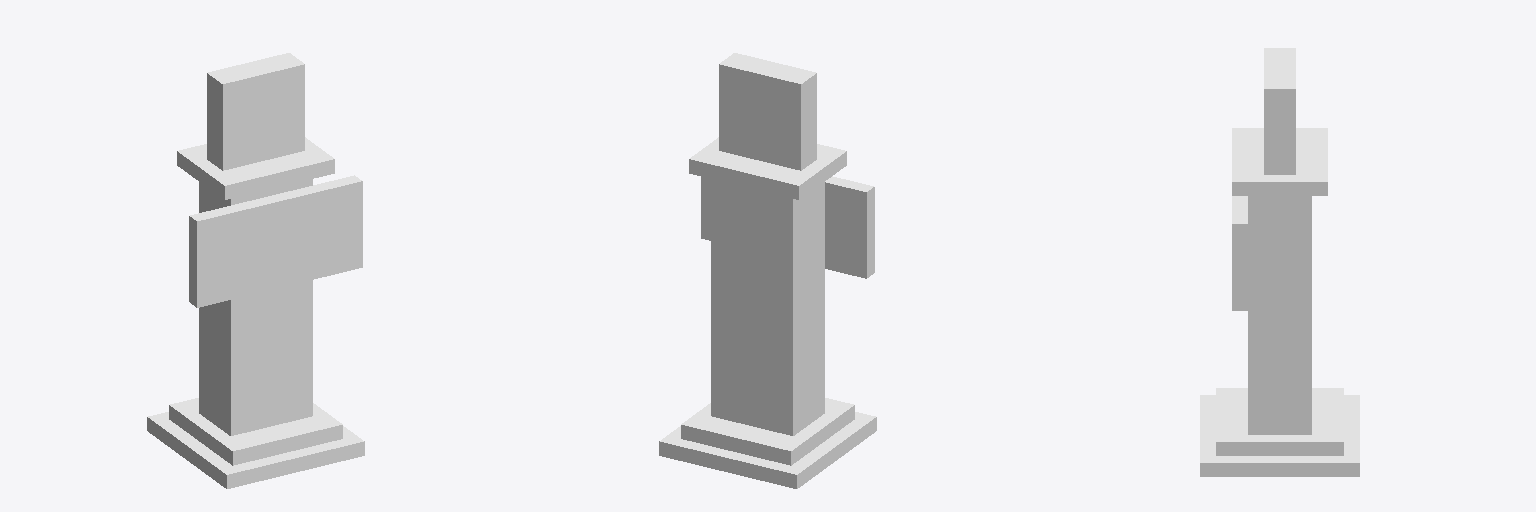
File: category.obj
The picture shows the model from 3 angles: view 1: azimuth 30°, elevation 25°; view 2: azimuth 150°, elevation 25°; view 3: azimuth 270°, elevation 25°; orthographic projection.
Parts seen in each view (by area): view 1: object 1; view 2: object 1; view 3: object 1.
Boxes of the visible parts, x1,y1,x2,y2 form: object 1: [147, 53, 364, 488]; object 1: [659, 53, 876, 488]; object 1: [1200, 48, 1359, 476].
Bounding box in the file's own units: 1.2 × 2.6 × 1.